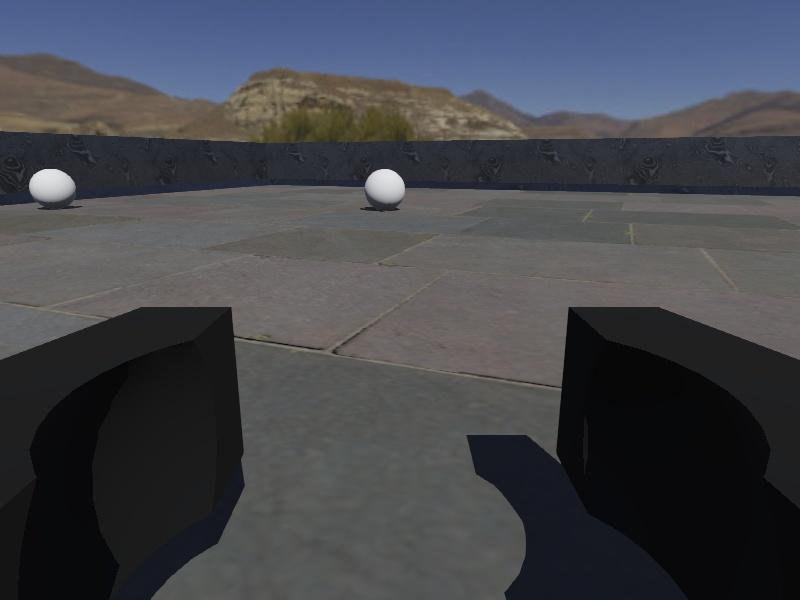white ball: (29, 168, 77, 208), (365, 168, 406, 211)
